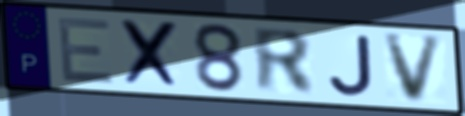8: (190, 22, 245, 94)
E: (54, 16, 117, 87)
J: (326, 32, 376, 98)
R: (249, 25, 319, 97)
V: (381, 33, 447, 106)
X: (118, 17, 184, 91)
